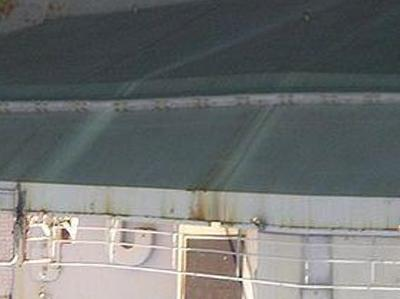rust: (183, 189, 254, 226), (197, 147, 245, 195)
